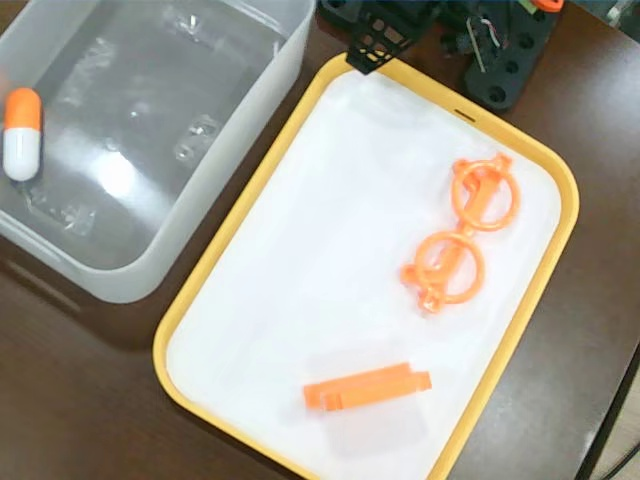pill: (1, 87, 41, 182)
